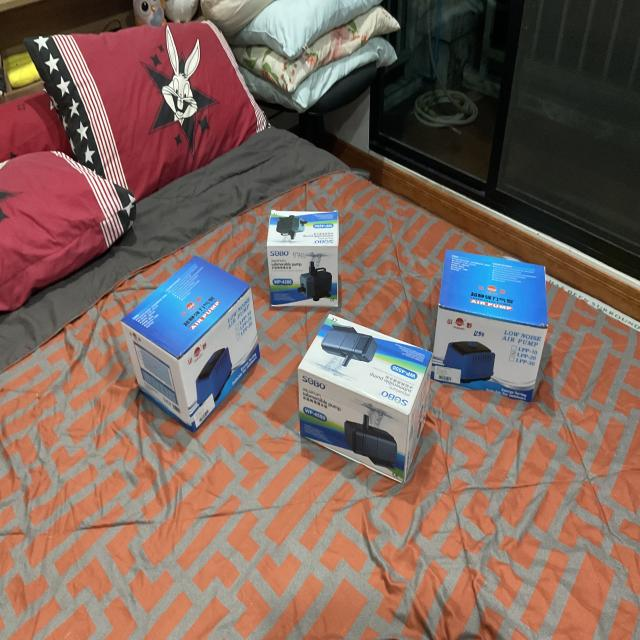SOBO_WP_4200: (293, 300, 436, 493), (252, 192, 348, 321)
YAMANO_LPP_20: (99, 242, 268, 460), (418, 247, 572, 410)
